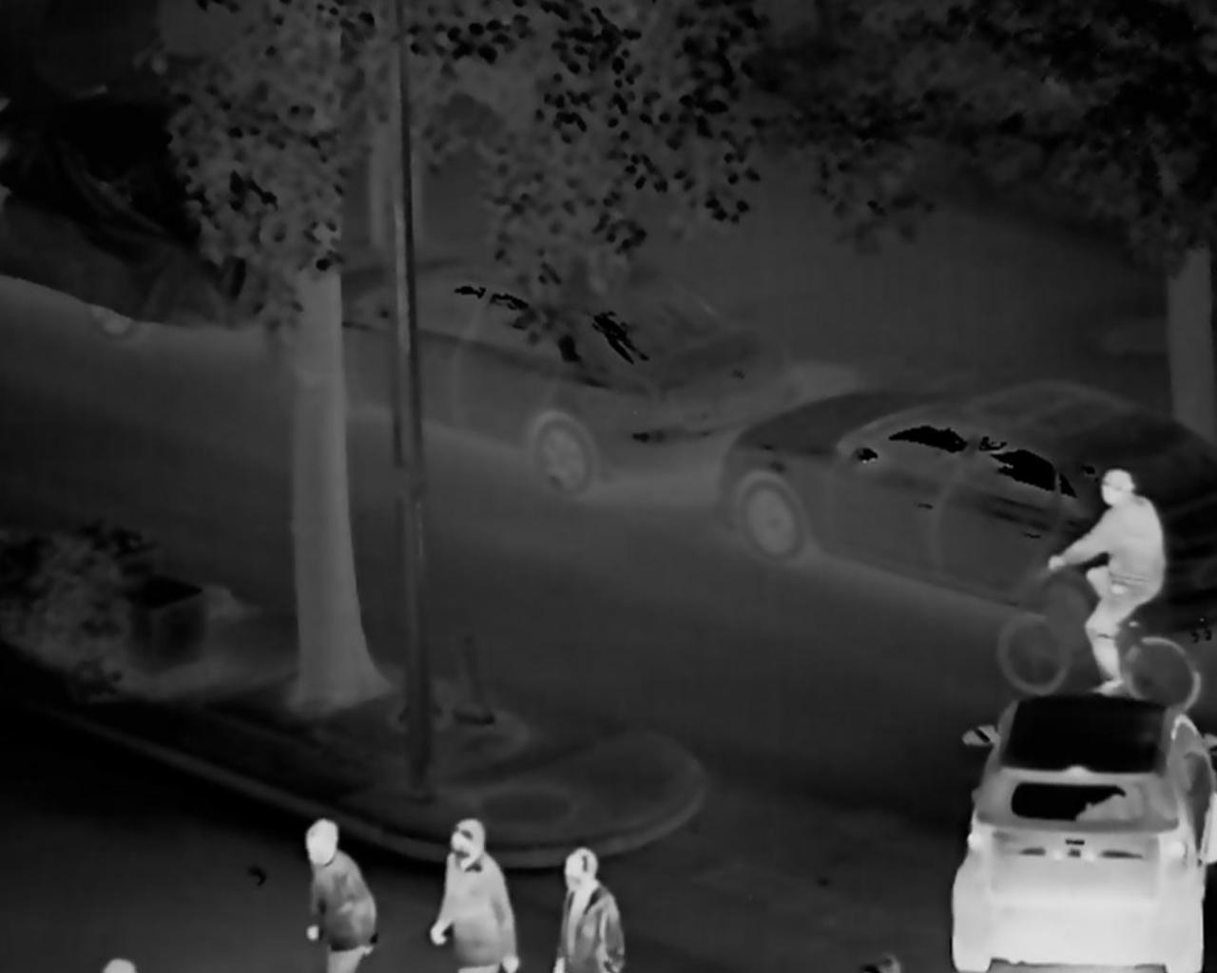person: (1045, 462, 1167, 699), (431, 817, 519, 973), (295, 817, 380, 973), (551, 849, 637, 973)
